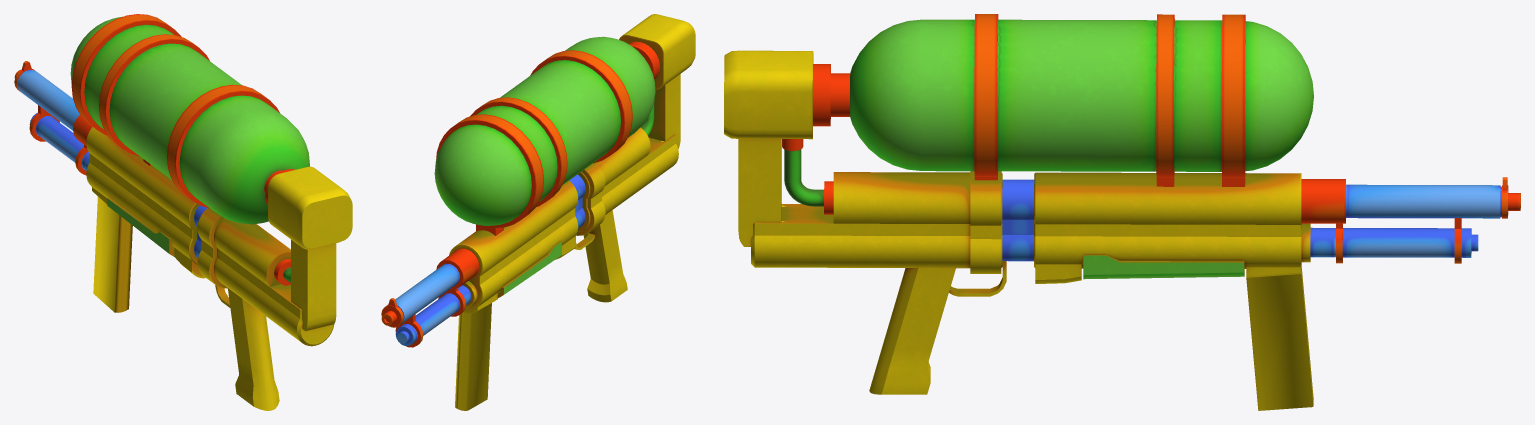
File: watergun.fbx
3 renders of one model, left to right at view 1: azimuth 30°, elevation 25°; view 2: azimuth 150°, elevation 25°; view 3: azimuth 270°, elevation 25°, orthographic. The views are drawn at different scales.
Parts seen in each view (by area): view 1: desert_eagle.020_000113-vb0=5e570263-vs=ba2ad61fa36ff709-ps=; view 2: desert_eagle.020_000113-vb0=5e570263-vs=ba2ad61fa36ff709-ps=; view 3: desert_eagle.020_000113-vb0=5e570263-vs=ba2ad61fa36ff709-ps=.
Boxes of the visible parts, <box> form: desert_eagle.020_000113-vb0=5e570263-vs=ba2ad61fa36ff709-ps=: <box>14,14,352,410</box>; desert_eagle.020_000113-vb0=5e570263-vs=ba2ad61fa36ff709-ps=: <box>381,14,695,410</box>; desert_eagle.020_000113-vb0=5e570263-vs=ba2ad61fa36ff709-ps=: <box>724,14,1520,410</box>.
Size of the model in its own units: 14.15 by 36.56 by 68.38.
